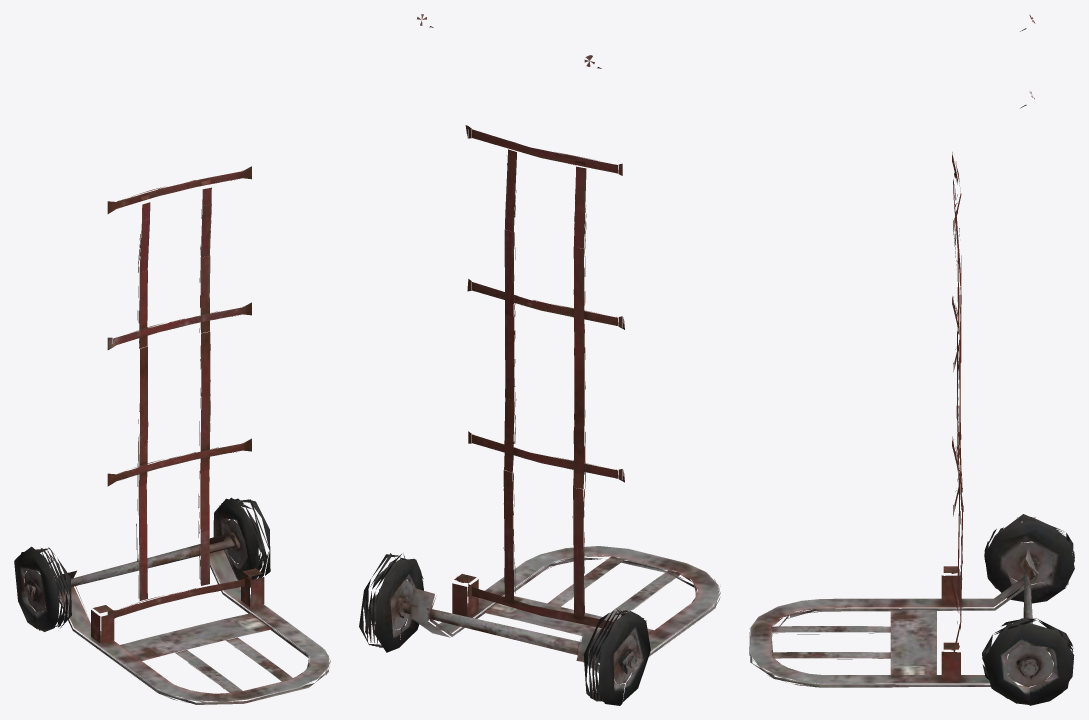
File: hand_truck.glb
3 renders of one model, left to right at view 1: azimuth 30°, elevation 25°; view 2: azimuth 150°, elevation 25°; view 3: azimuth 270°, elevation 25°, orthographic. The views are drawn at different scales.
Parts seen in each view (by area): view 1: hand_truck; view 2: hand_truck; view 3: hand_truck.
Boxes of the visible parts, x1,y1,x2,y2 form: hand_truck: (14,166,330,705); hand_truck: (359,14,720,705); hand_truck: (749,14,1074,705).
Bounding box in the file's own units: 0.5933 × 1.41 × 0.6932.
1 material, 1 textured.
